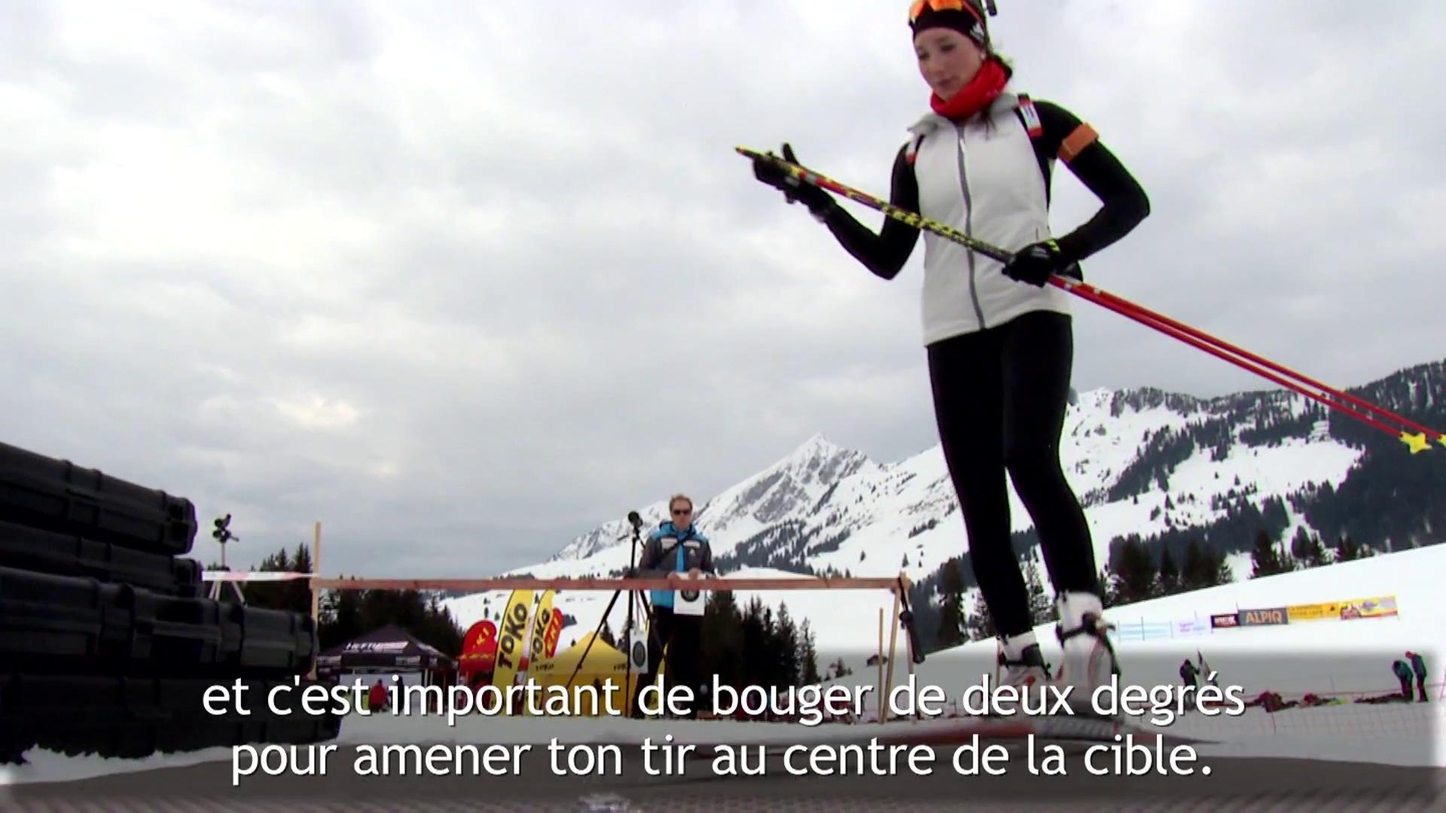victim: (751, 3, 1155, 738), (635, 490, 720, 721), (353, 673, 400, 719), (1171, 655, 1207, 715), (1402, 646, 1428, 705), (1384, 656, 1415, 700)
